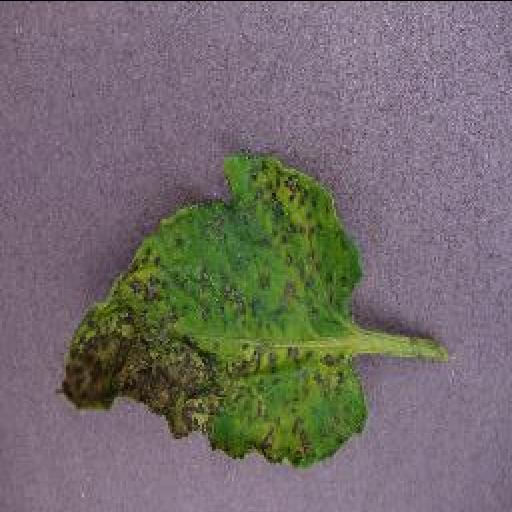disease_tomato: (58, 152, 368, 461)
